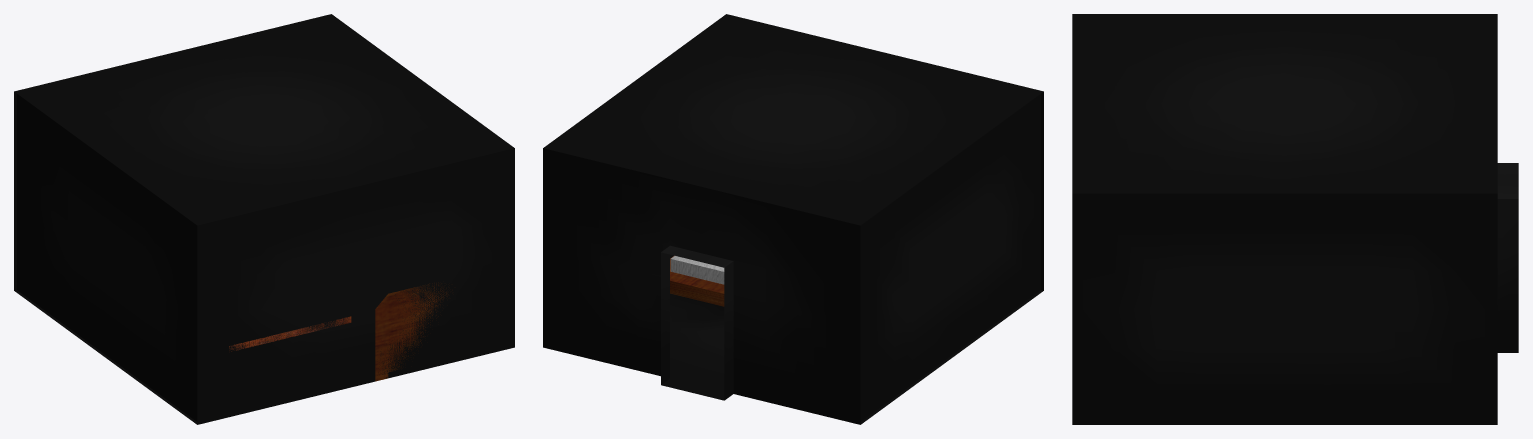
The model's file is room_s1_1.fbx.
The picture shows the model from 3 angles, left to right: view 1: azimuth 30°, elevation 25°; view 2: azimuth 150°, elevation 25°; view 3: azimuth 270°, elevation 25°; orthographic projection. The views are drawn at different scales.
Visible parts, largest first — view 1: Room.S1.1, Bed, Table; view 2: Room.S1.1, Bed; view 3: Room.S1.1.
Part boxes in pixels (x1,y1,x2,y2): Room.S1.1: [14, 14, 514, 424]; Bed: [375, 282, 452, 381]; Table: [229, 316, 351, 351]; Room.S1.1: [543, 14, 1043, 424]; Bed: [670, 255, 724, 306]; Room.S1.1: [1072, 14, 1518, 424].
Bounding box in the file's own units: 1200 × 720 × 1260.
